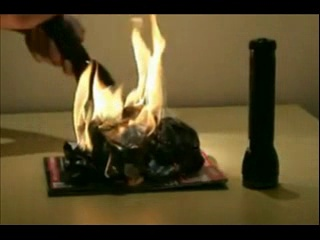fire: (71, 58, 127, 151), (127, 14, 167, 138)
